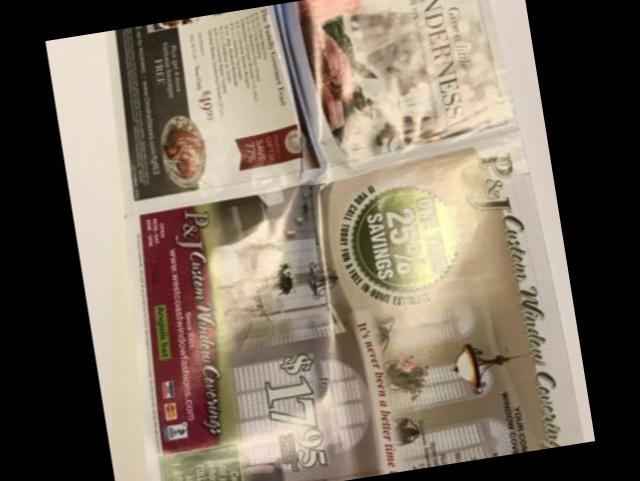cardboard paper: (104, 0, 586, 481)
